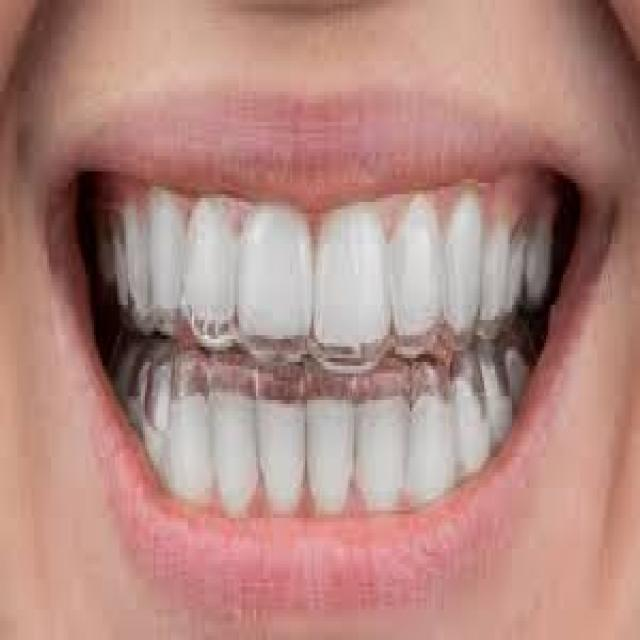tooth: (232, 190, 312, 362), (314, 214, 391, 350), (390, 194, 444, 339), (254, 377, 307, 518), (354, 377, 412, 503), (188, 198, 239, 335), (305, 381, 354, 510), (442, 187, 482, 339), (166, 373, 214, 499), (213, 377, 256, 514), (149, 187, 186, 339), (409, 377, 456, 495), (454, 362, 488, 476), (484, 202, 512, 335), (478, 347, 516, 442), (145, 350, 171, 442)
